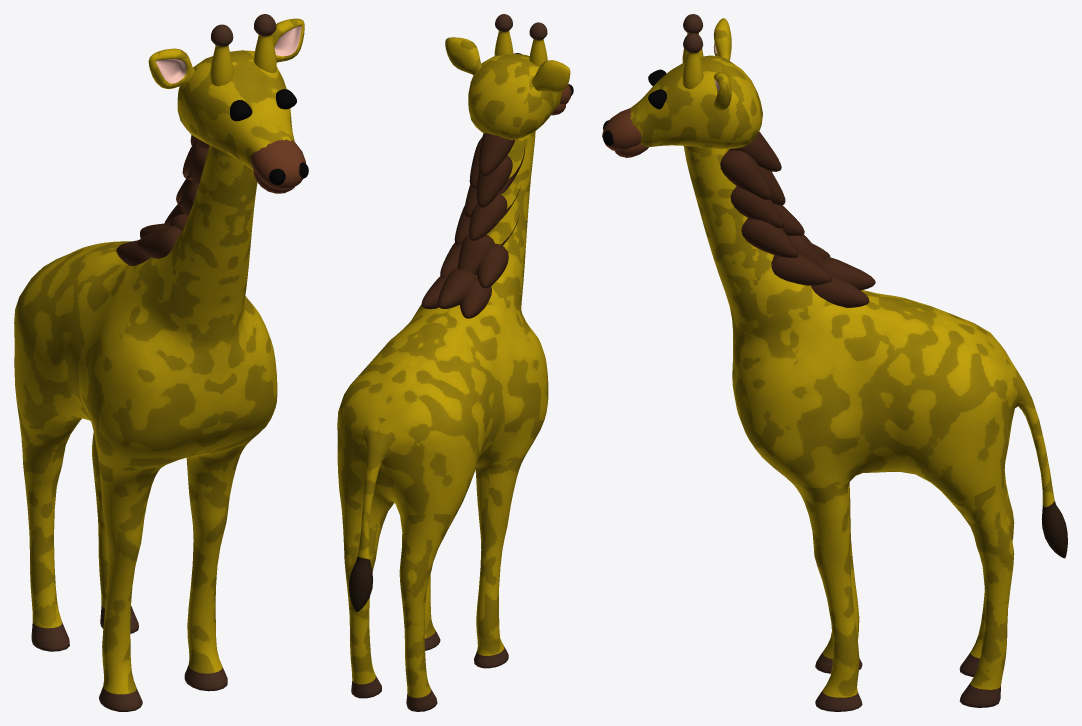
Rendered from Giraffe.dae.
3 renders of one model, left to right at view 1: azimuth 30°, elevation 25°; view 2: azimuth 150°, elevation 25°; view 3: azimuth 270°, elevation 25°, orthographic. The views are drawn at different scales.
Parts seen in each view (by area): view 1: Giraffe, Eyes_Giraffes; view 2: Giraffe; view 3: Giraffe.
Boxes of the visible parts, x1,y1,x2,y2 form: Giraffe: (14,14,308,711); Eyes_Giraffes: (230,89,296,121); Giraffe: (337,14,573,711); Giraffe: (602,14,1067,711).
Bounding box in the file's own units: 1.14 × 3.01 × 4.72.
10 materials, 1 textured.
